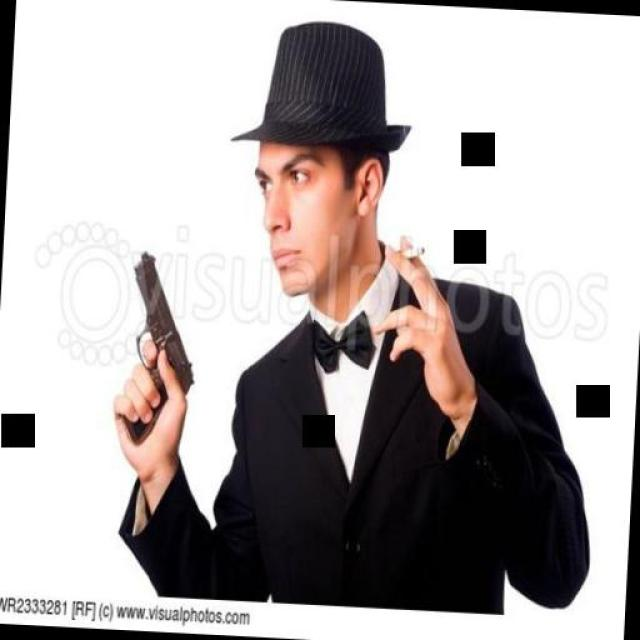gun: (110, 251, 200, 445)
